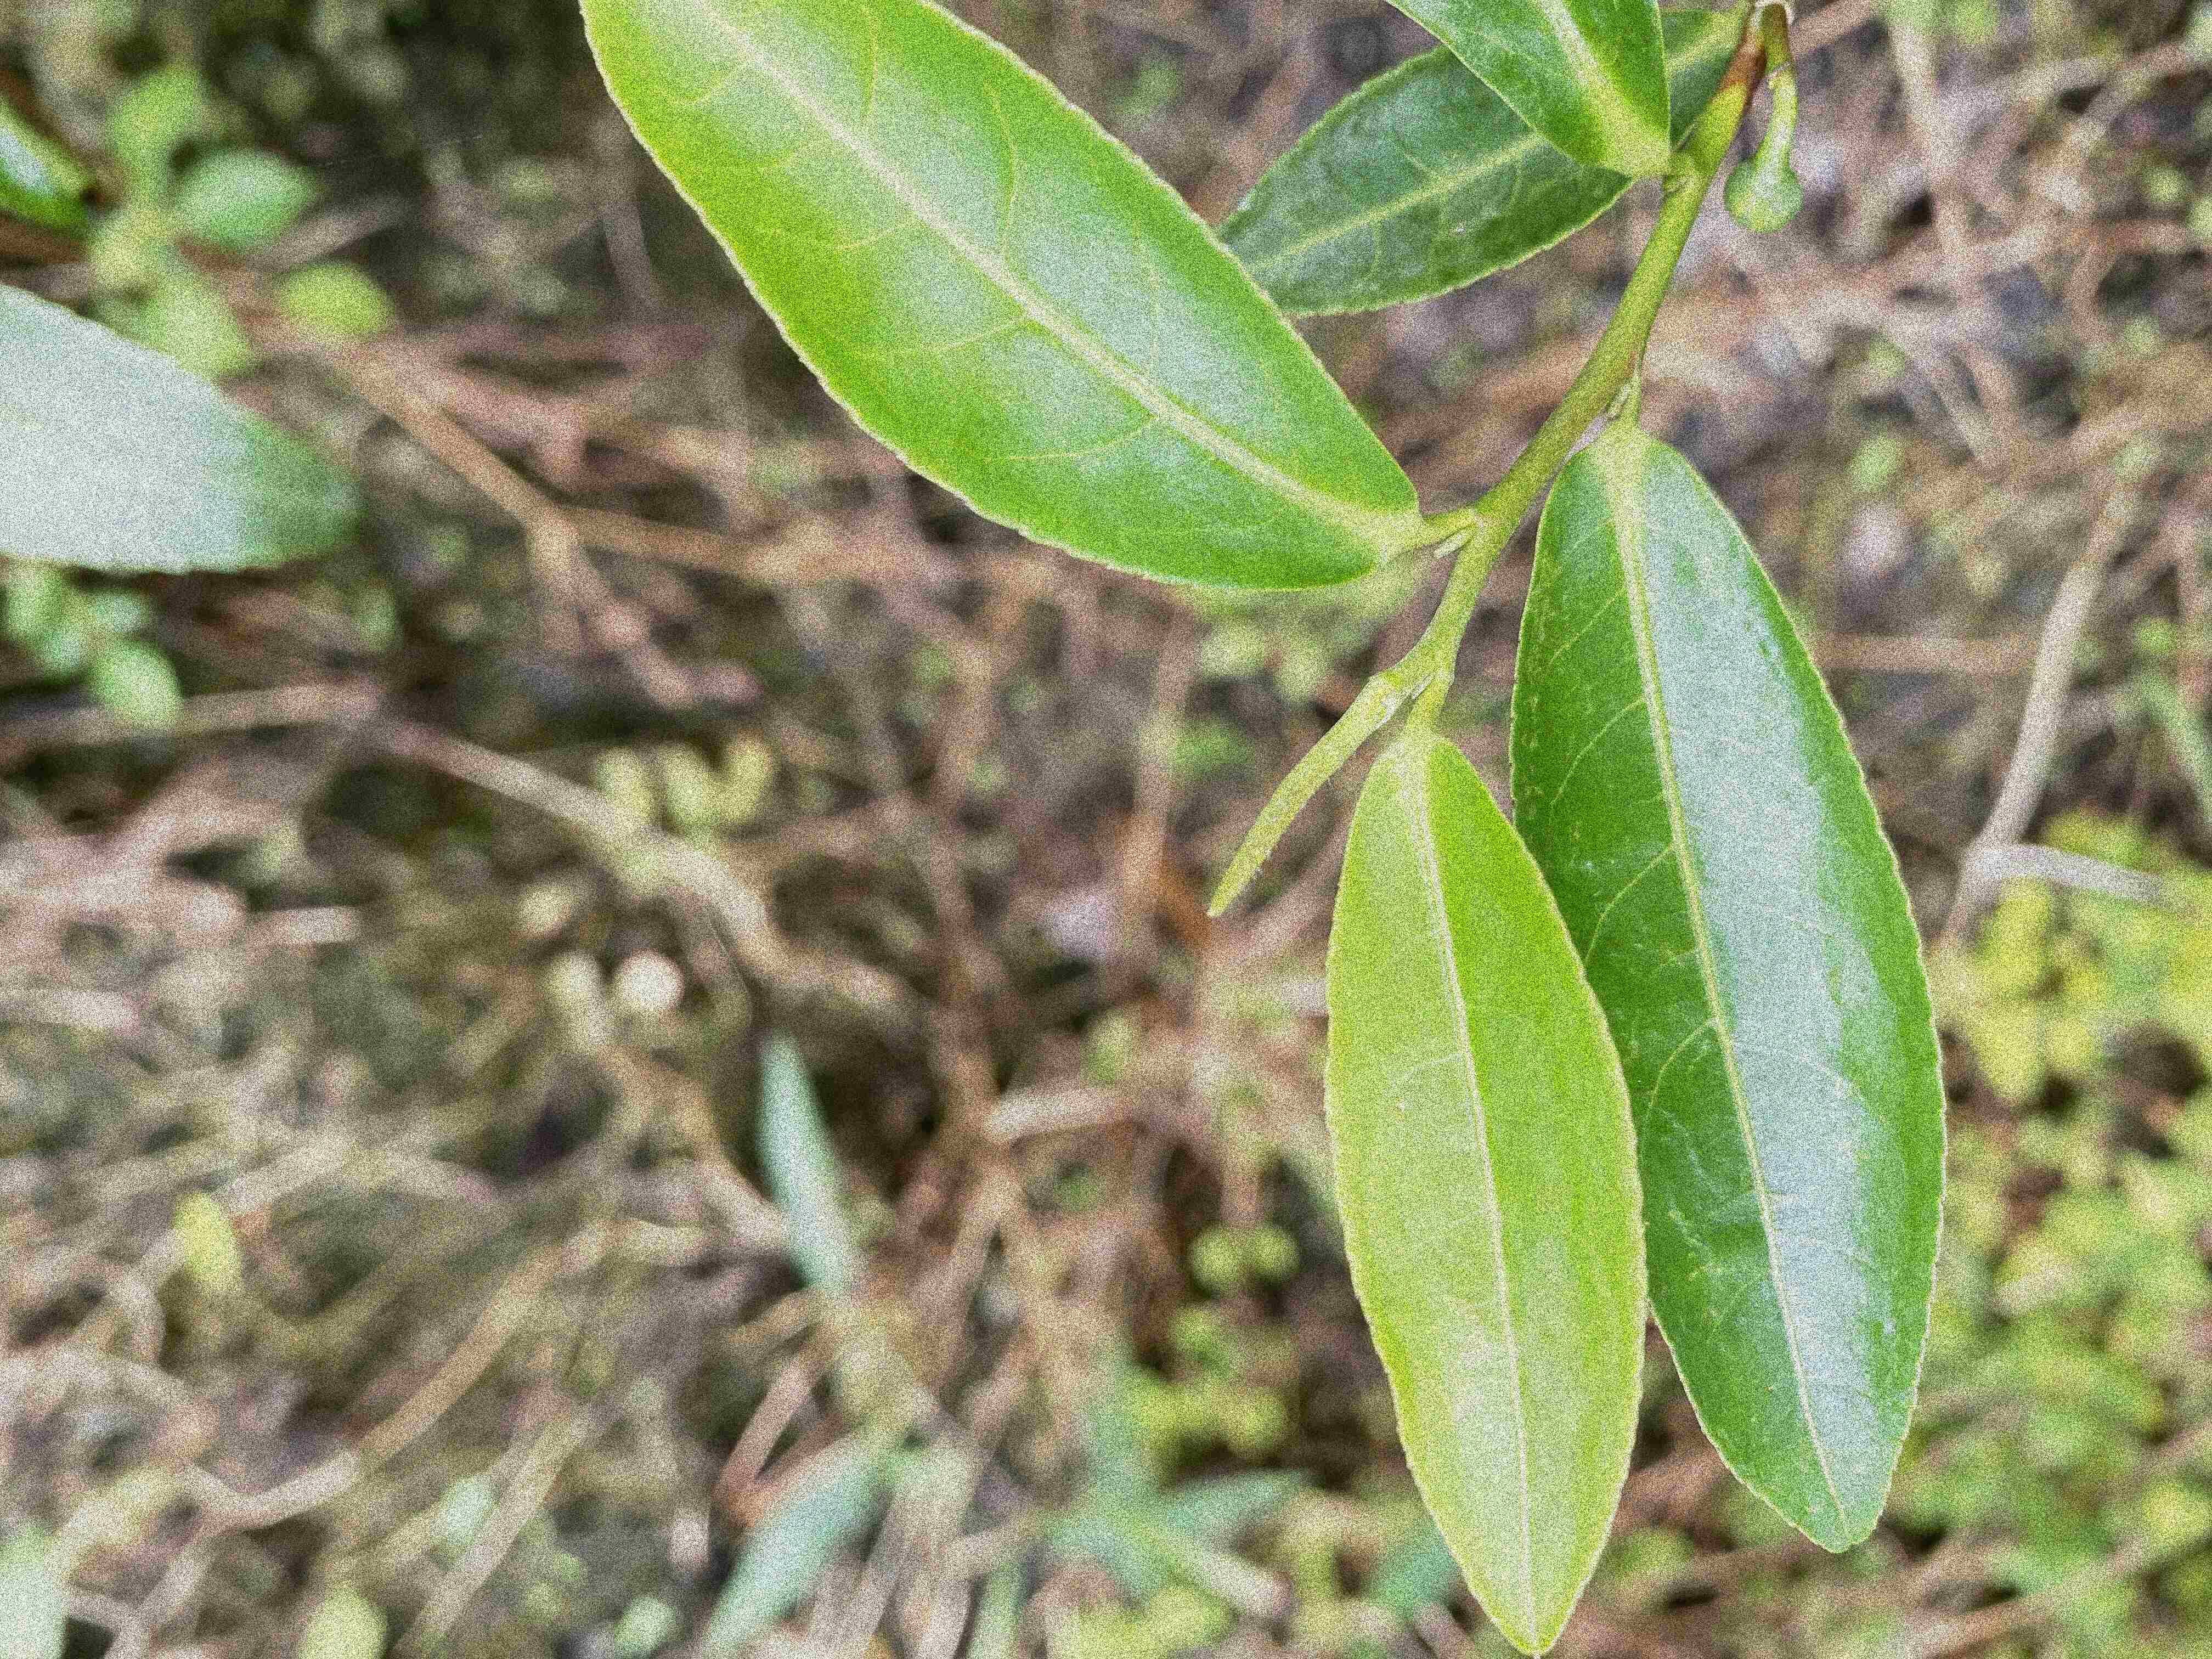healthy: (571, 2, 1423, 596), (1507, 423, 1951, 1558), (1320, 725, 1651, 1654)
